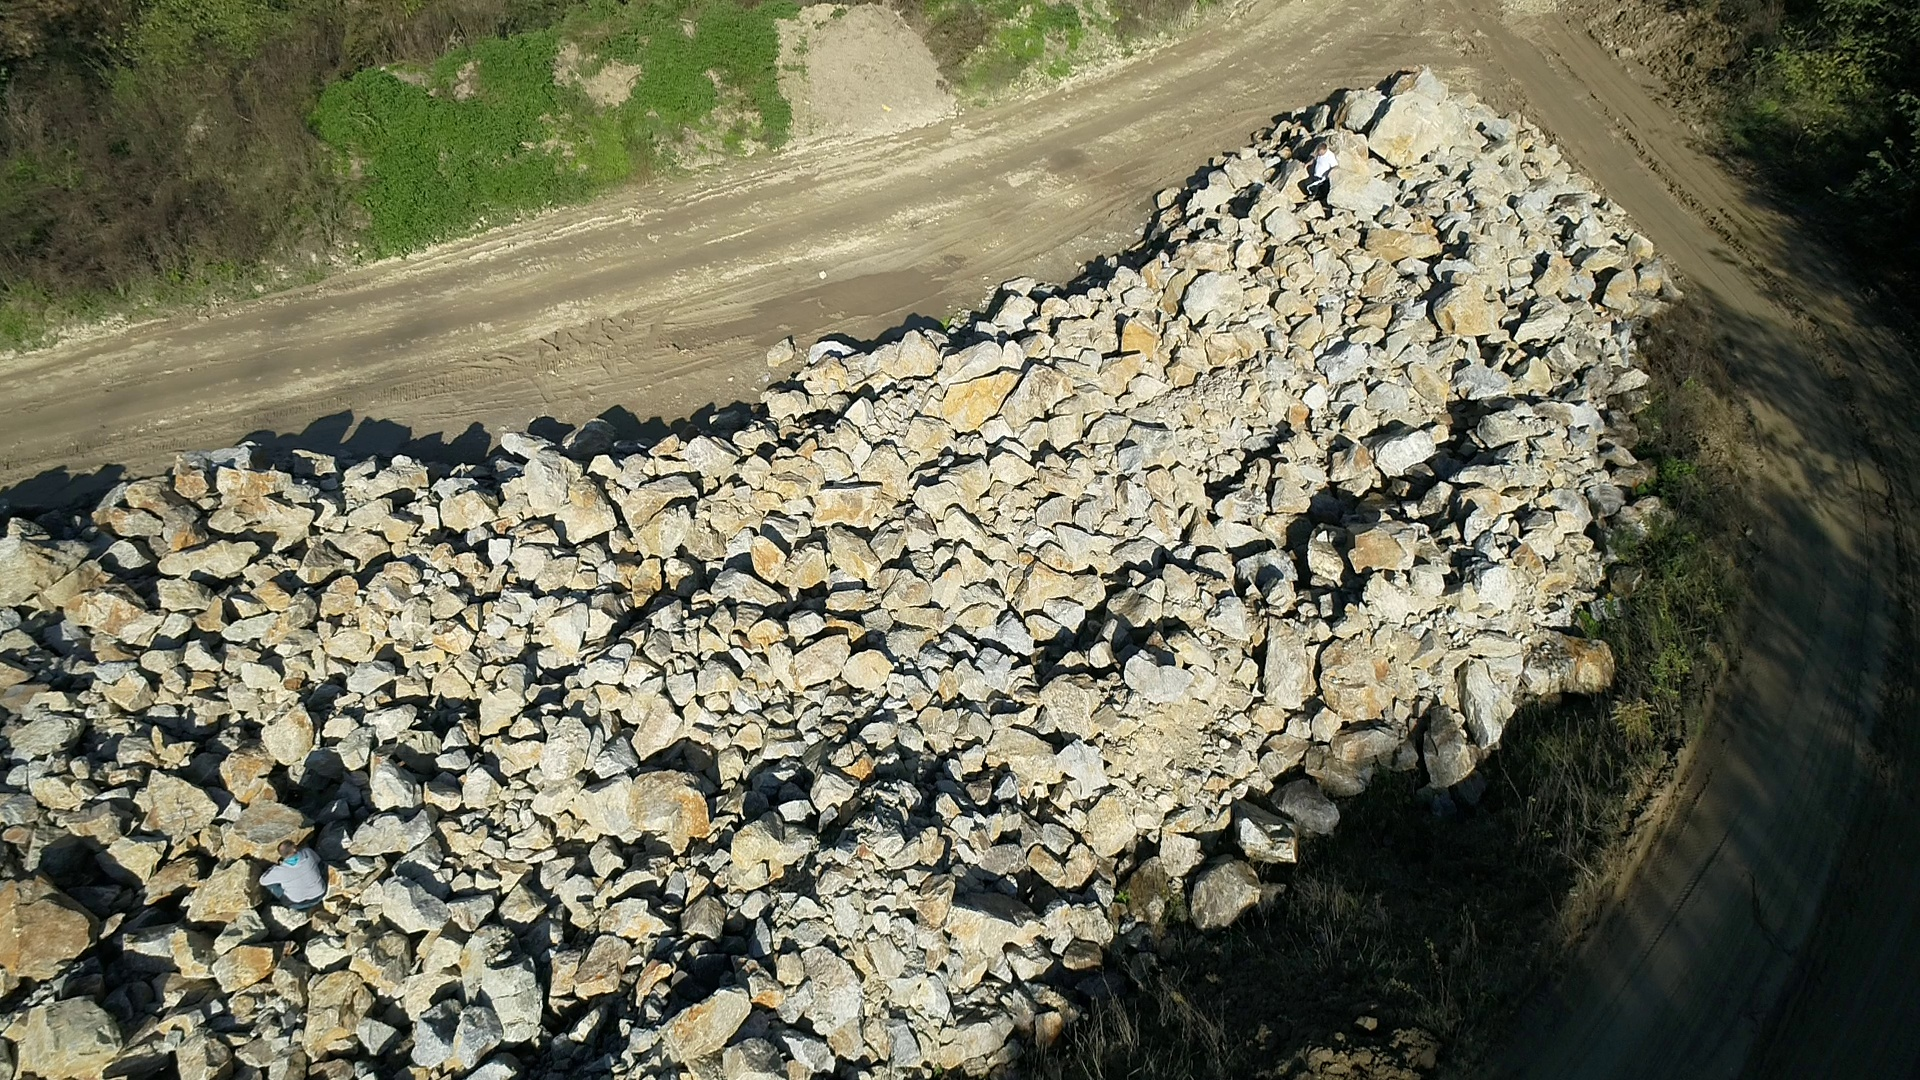person: (257, 837, 325, 913), (1303, 142, 1339, 204)
